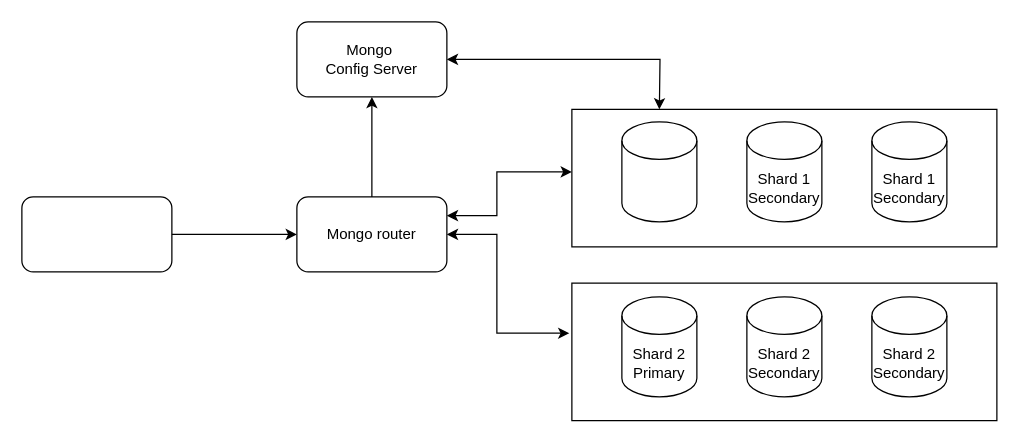
This 1019x443 diagram has some shape labels left out. Each missing label, with the centre of its shape:
pymongo-api: (x=96, y=234)
Shard 1 Primary: (x=659, y=171)
